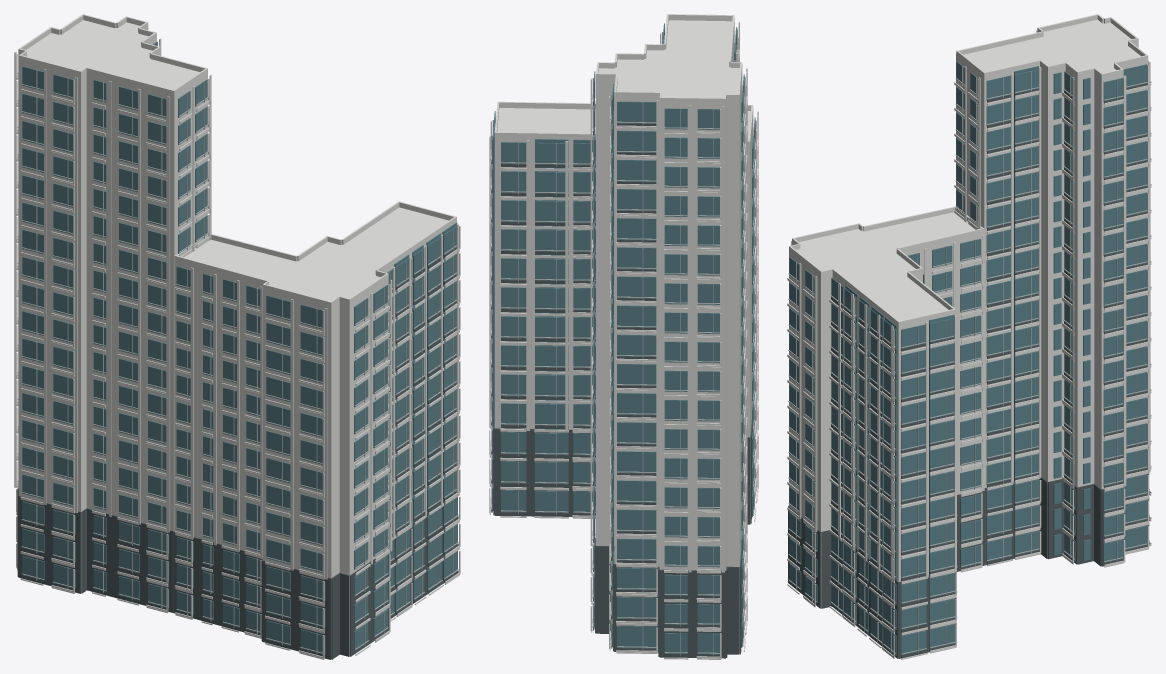
Rendered from bespoke-acro-riverpark-113.glb.
3 views of the same model, side by side, from view 1: azimuth 30°, elevation 25°; view 2: azimuth 150°, elevation 25°; view 3: azimuth 270°, elevation 25° (orthographic). The views are drawn at different scales.
Parts seen in each view (by area): view 1: 113_R00_glass, 113_R01_body, 113_R01_glass, 113_R00_body, 113_R00_white, 113_R01_white, 113_R00_dark, 113_R00_frame, 113_R01_frame, 113_R01_dark; view 2: 113_R01_glass, 113_R01_body, 113_R00_glass, 113_R01_white, 113_R00_body, 113_R00_white, 113_R01_dark, 113_R01_frame, 113_R00_dark, 113_R00_frame; view 3: 113_R01_glass, 113_R00_glass, 113_R01_body, 113_R00_white, 113_R00_body, 113_R01_white, 113_R01_dark, 113_R00_dark, 113_R00_frame, 113_R01_frame.
Boxes of the visible parts, left/top/right/bottom form: 113_R00_glass: left=176, top=222, right=457, bottom=654; 113_R01_body: left=18, top=20, right=207, bottom=592; 113_R01_glass: left=22, top=41, right=207, bottom=608; 113_R00_body: left=174, top=207, right=456, bottom=659; 113_R00_white: left=174, top=201, right=460, bottom=659; 113_R01_white: left=14, top=14, right=211, bottom=613; 113_R00_dark: left=174, top=247, right=458, bottom=659; 113_R00_frame: left=176, top=229, right=458, bottom=654; 113_R01_frame: left=17, top=44, right=208, bottom=608; 113_R01_dark: left=17, top=488, right=174, bottom=612; 113_R01_glass: left=593, top=23, right=744, bottom=654; 113_R01_body: left=596, top=20, right=742, bottom=652; 113_R00_glass: left=492, top=111, right=755, bottom=517; 113_R01_white: left=590, top=14, right=747, bottom=659; 113_R00_body: left=494, top=108, right=753, bottom=523; 113_R00_white: left=489, top=101, right=758, bottom=521; 113_R01_dark: left=593, top=102, right=741, bottom=658; 113_R01_frame: left=592, top=29, right=745, bottom=655; 113_R00_dark: left=491, top=160, right=752, bottom=524; 113_R00_frame: left=491, top=120, right=756, bottom=515; 113_R01_glass: left=956, top=61, right=1148, bottom=563; 113_R00_glass: left=789, top=238, right=980, bottom=655; 113_R01_body: left=956, top=19, right=1148, bottom=563; 113_R00_white: left=787, top=206, right=984, bottom=659; 113_R00_body: left=789, top=212, right=984, bottom=658; 113_R01_white: left=954, top=14, right=1151, bottom=567; 113_R01_dark: left=984, top=83, right=1149, bottom=566; 113_R00_dark: left=788, top=296, right=984, bottom=658; 113_R00_frame: left=788, top=239, right=980, bottom=654; 113_R01_frame: left=955, top=66, right=1149, bottom=562.
Size of the model in its own units: 45.89 by 68 by 45.66.
